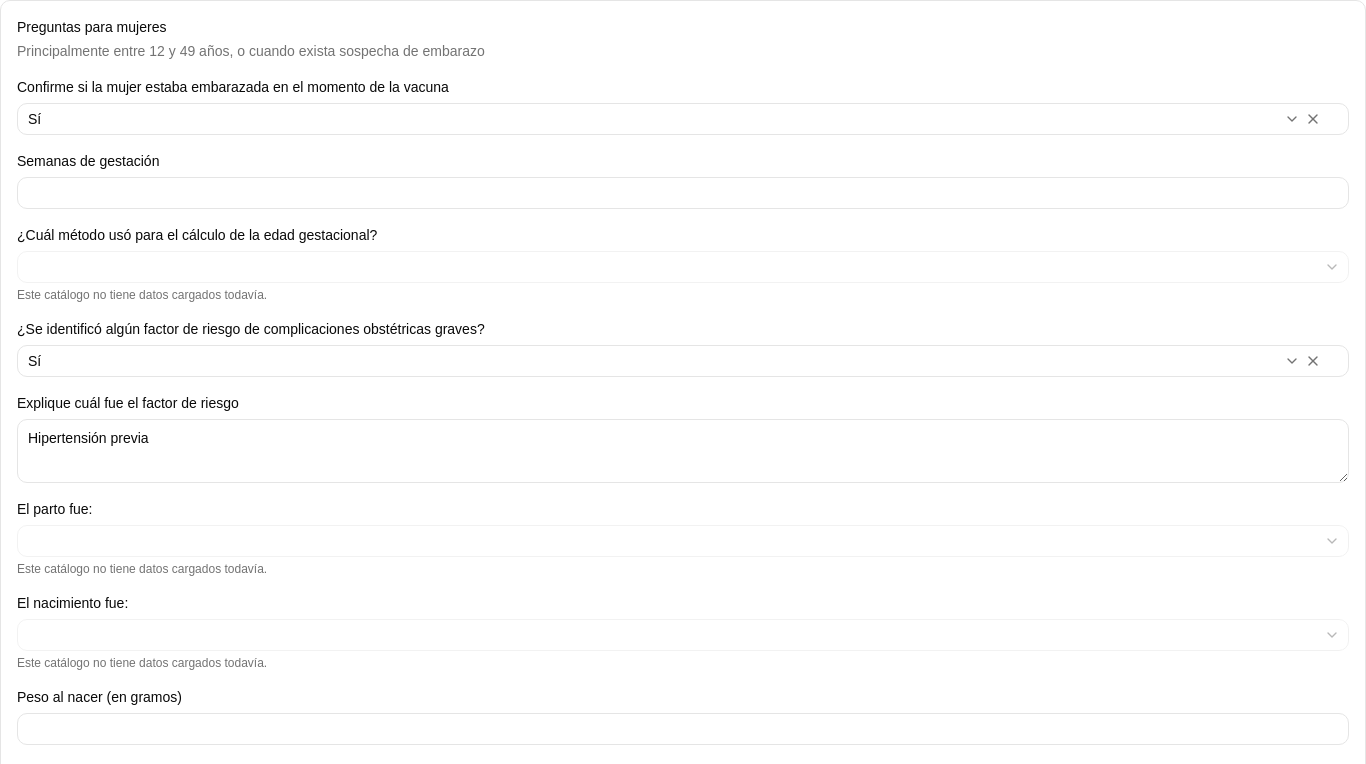
Scenario: PregnancySection — la compuerta interior (SPEC FE13b §3.5 A) › apagar el factor de riesgo limpia su explicación
Check: the text box labelled "Explique cuál fue el factor de riesgo" holds "Hipertensión previa", box [17,419,1349,483]
Click the dropdown named "¿Se identificó algún factor de riesgo de complicaciones obstétricas graves?".
click(35, 361)  # box [17,345,1349,377]
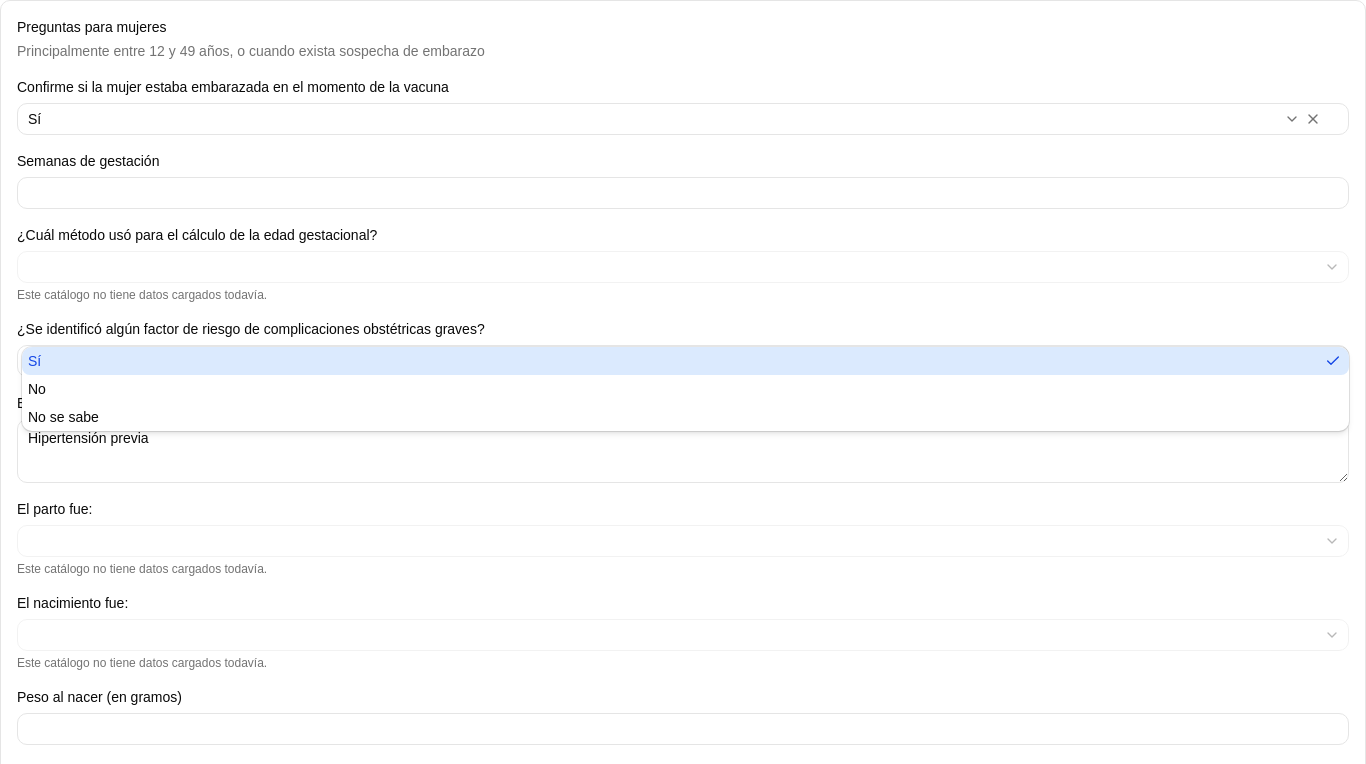
Click the option "No".
click(37, 389)  # box [28,381,46,397]
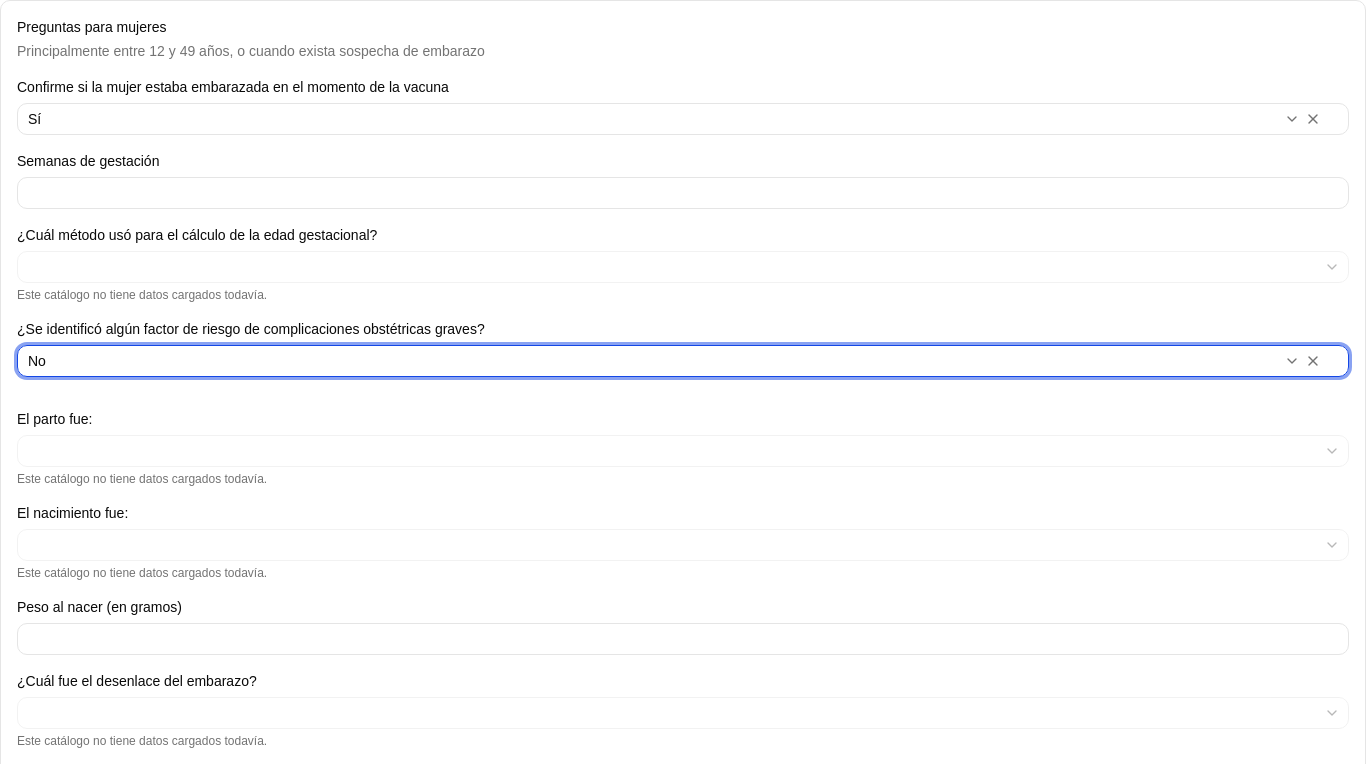
Check: the label labelled "Explique cuál fue el factor de riesgo" is gone
